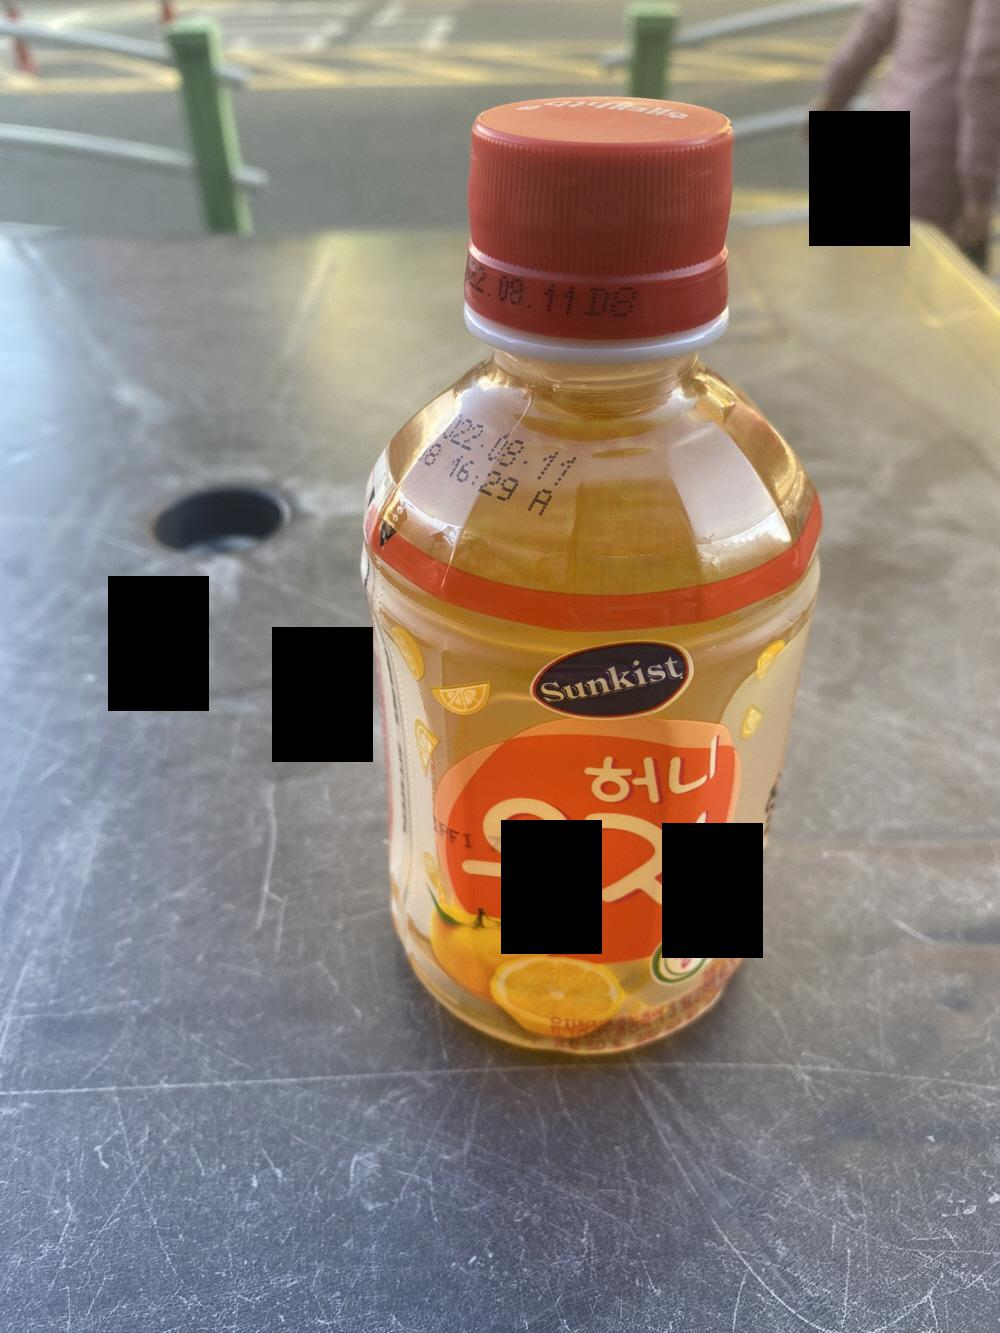honeyyuja: (370, 95, 832, 1070)
